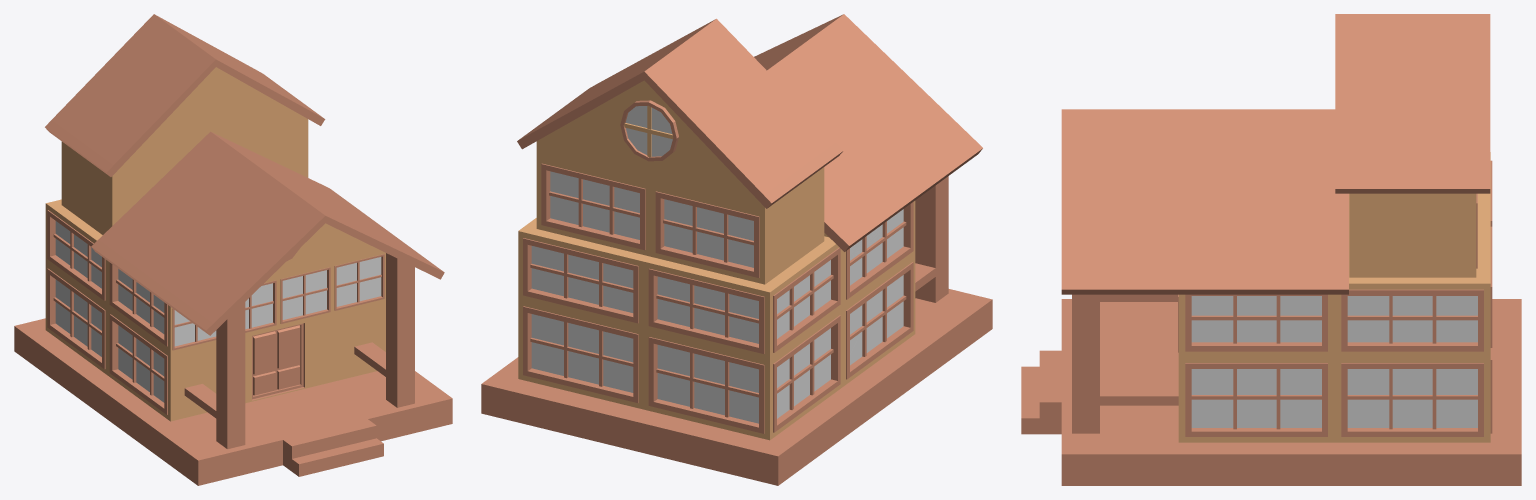
Rendered from suburban-house-C.fbx.
The picture shows the model from 3 angles, left to right: view 1: azimuth 30°, elevation 25°; view 2: azimuth 150°, elevation 25°; view 3: azimuth 270°, elevation 25°; orthographic projection. The views are drawn at different scales.
Visible parts, largest first — view 1: suburban-house-C; view 2: suburban-house-C; view 3: suburban-house-C.
Part boxes in pixels (<box>): suburban-house-C: <box>14,14,452,485</box>; suburban-house-C: <box>481,14,992,485</box>; suburban-house-C: <box>1021,14,1521,485</box>.
Bounding box in the file's own units: 8.3 × 9.83 × 11.29.
